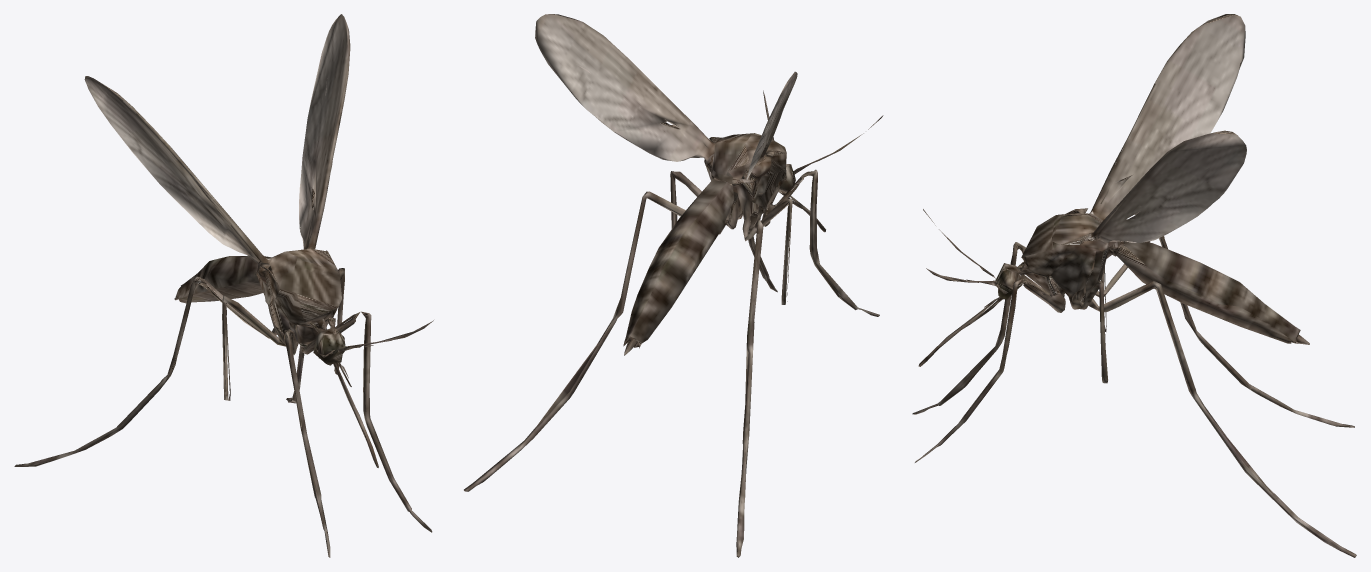
Rendered from Zumbador_LOD2.glb.
3 views of the same model, side by side, from view 1: azimuth 30°, elevation 25°; view 2: azimuth 150°, elevation 25°; view 3: azimuth 270°, elevation 25° (orthographic). The views are drawn at different scales.
Visible parts, largest first — view 1: Zumbador; view 2: Zumbador; view 3: Zumbador.
Boxes of the visible parts, box(x1,y1,x2,y2) form: Zumbador: box(14, 14, 433, 557); Zumbador: box(464, 14, 883, 557); Zumbador: box(912, 14, 1356, 557).
Size of the model in its own units: 0.0669 by 0.1 by 0.0958.
1 material, 1 textured.
